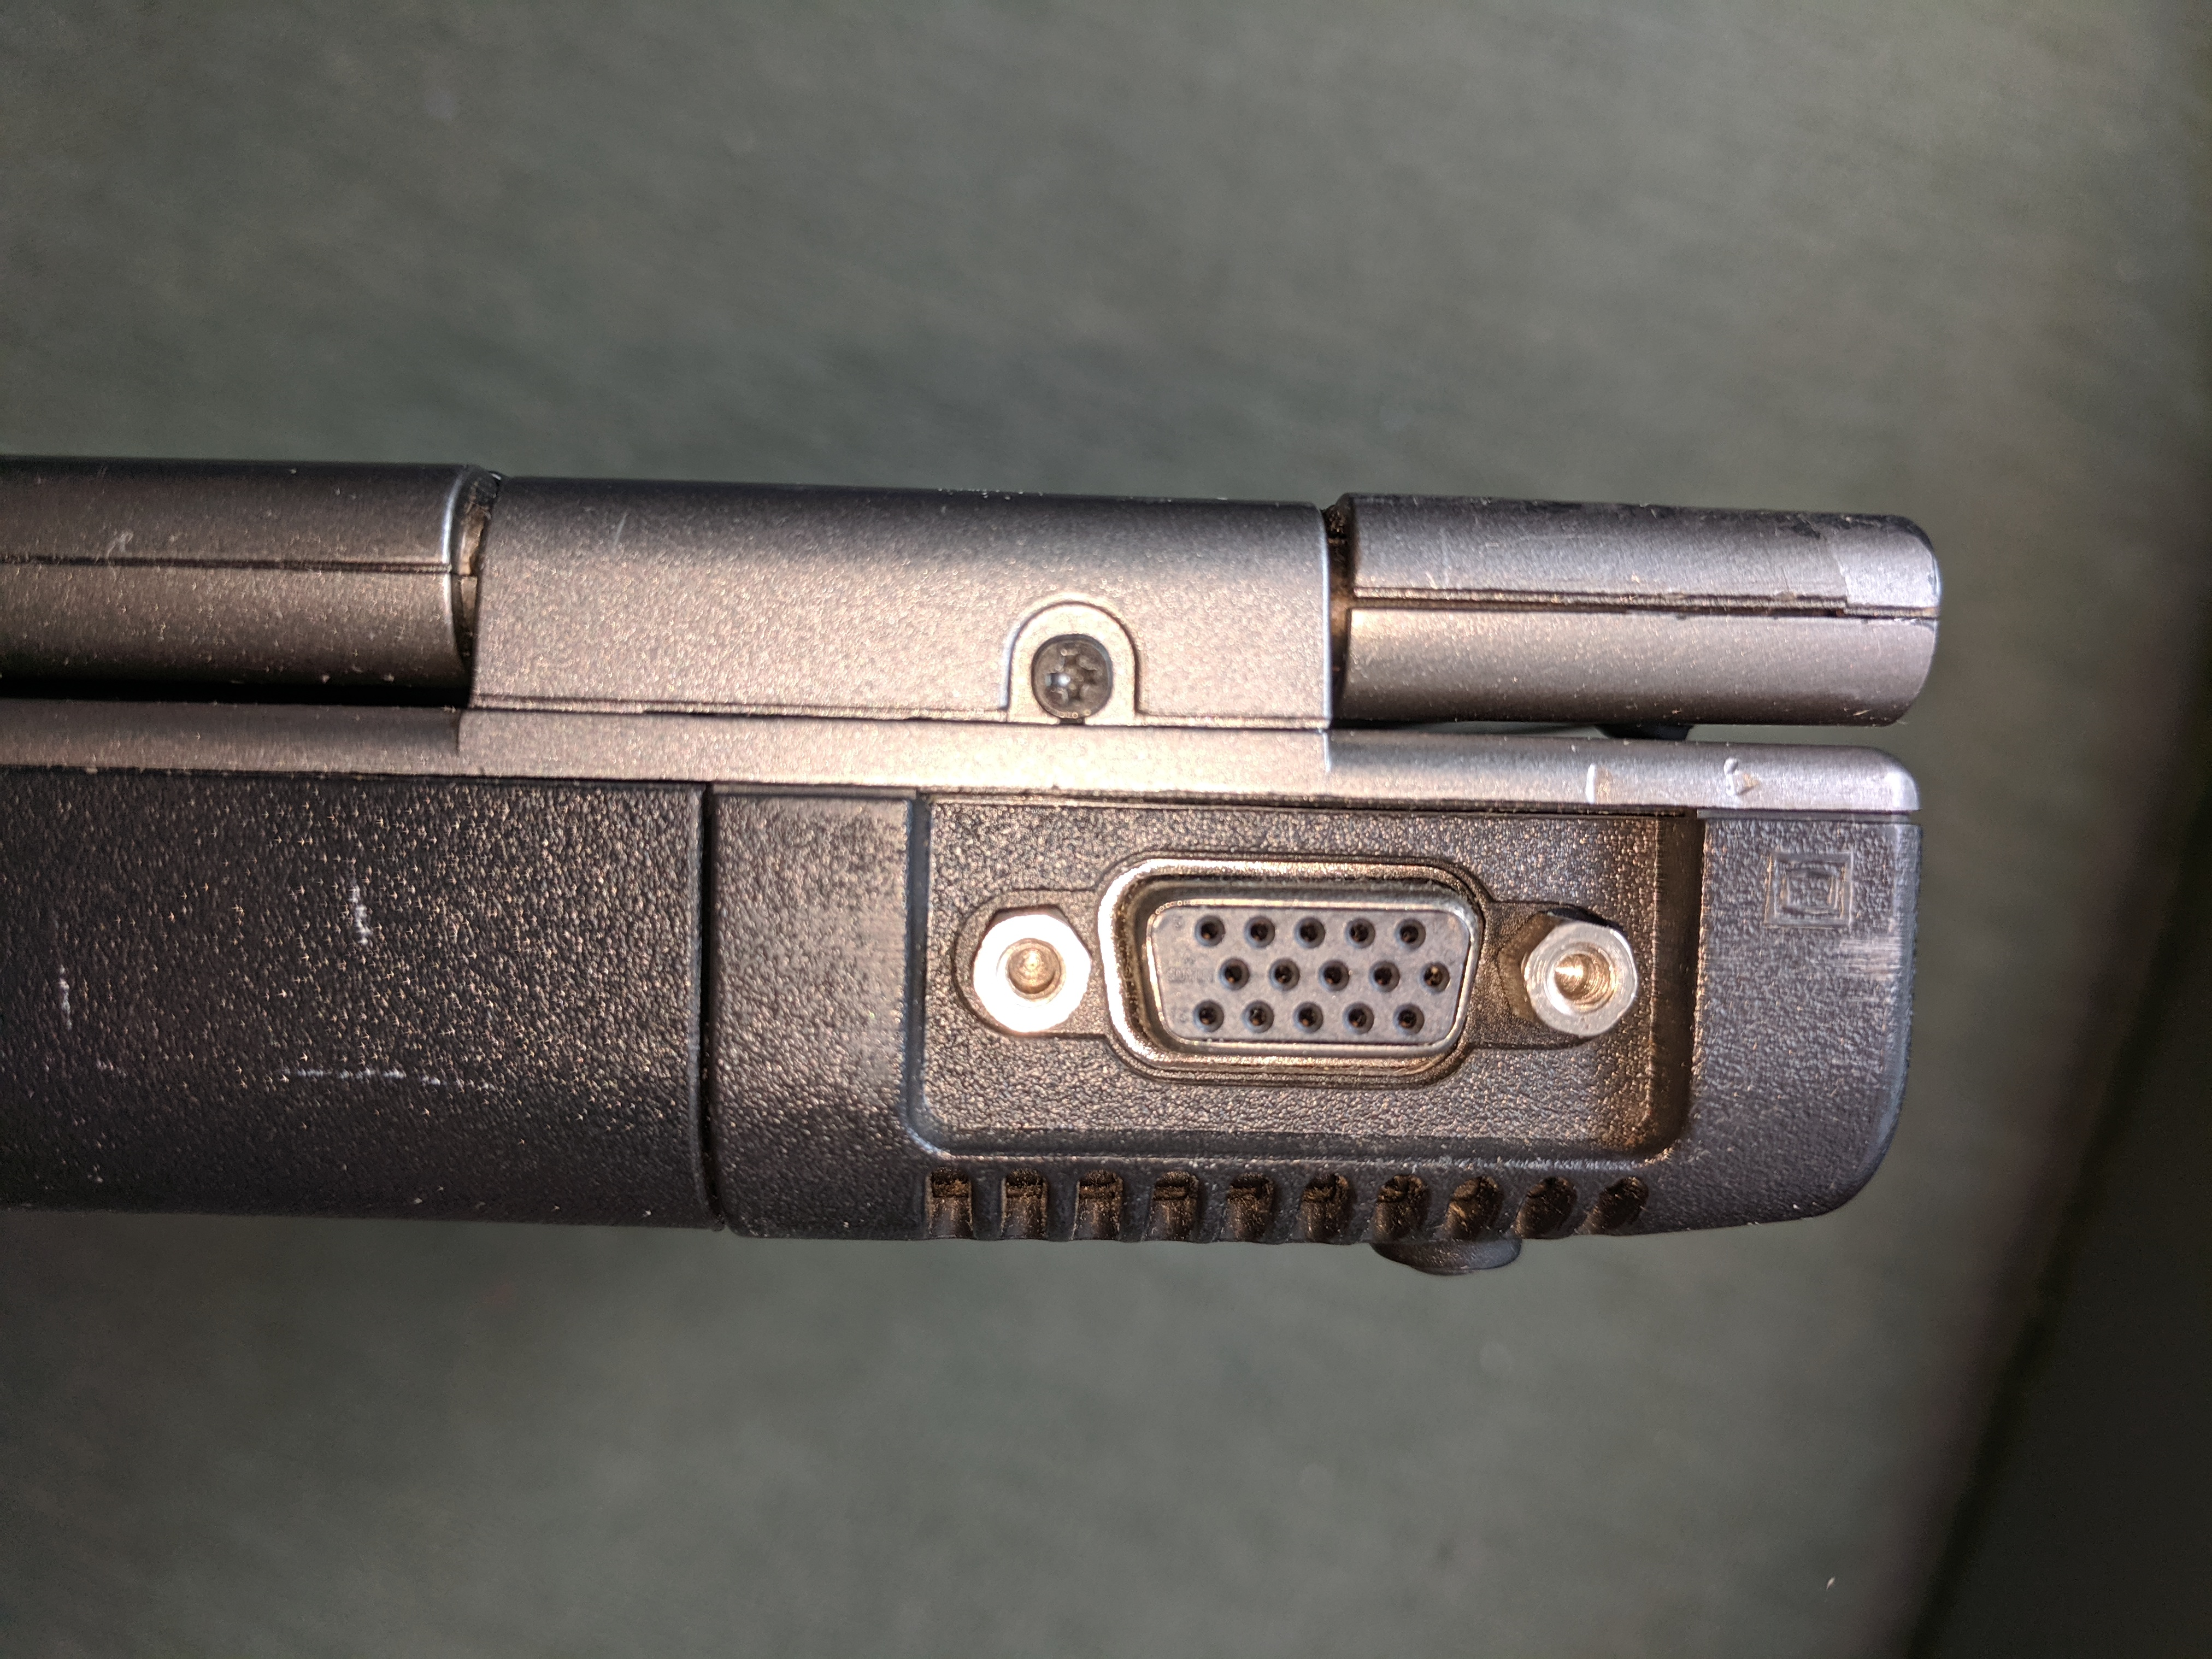cross_recessed_screw: (1026, 624, 1116, 718)
